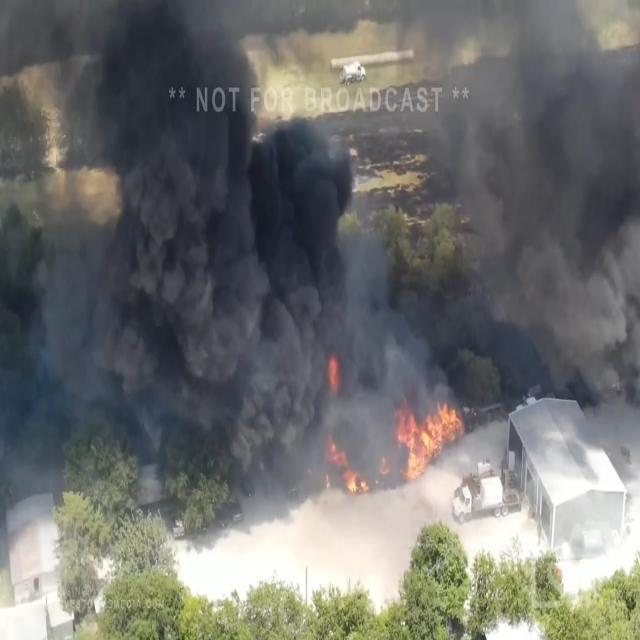Fire: (399, 404, 462, 478)
Smoke: (80, 2, 320, 464), (450, 0, 626, 398)
